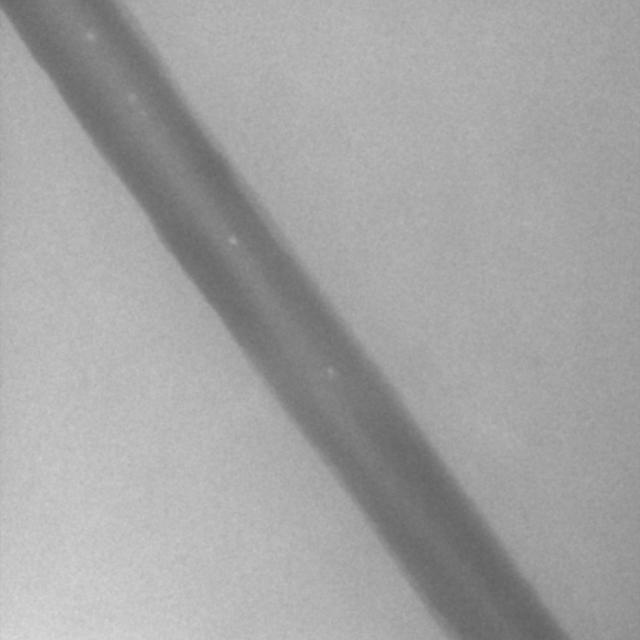air-hole: (327, 361, 338, 383), (85, 27, 100, 41), (226, 232, 238, 247), (138, 108, 148, 123), (126, 87, 135, 102)
